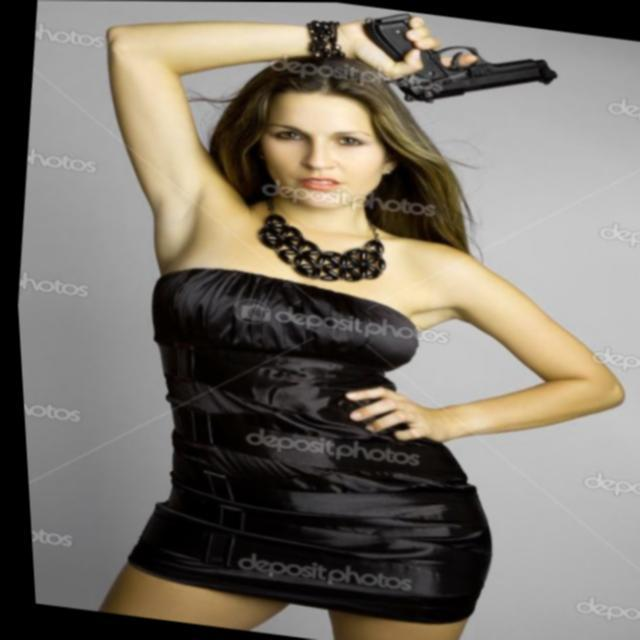weapon: (352, 6, 562, 120)
